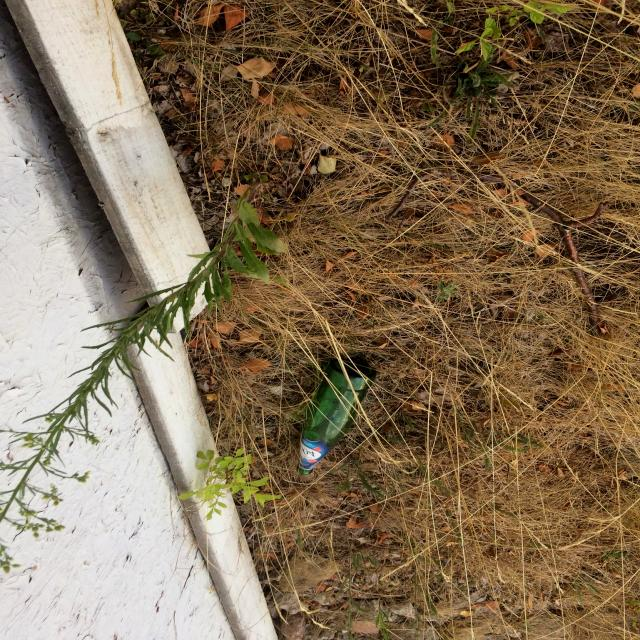Glass bottle: (297, 358, 376, 474)
